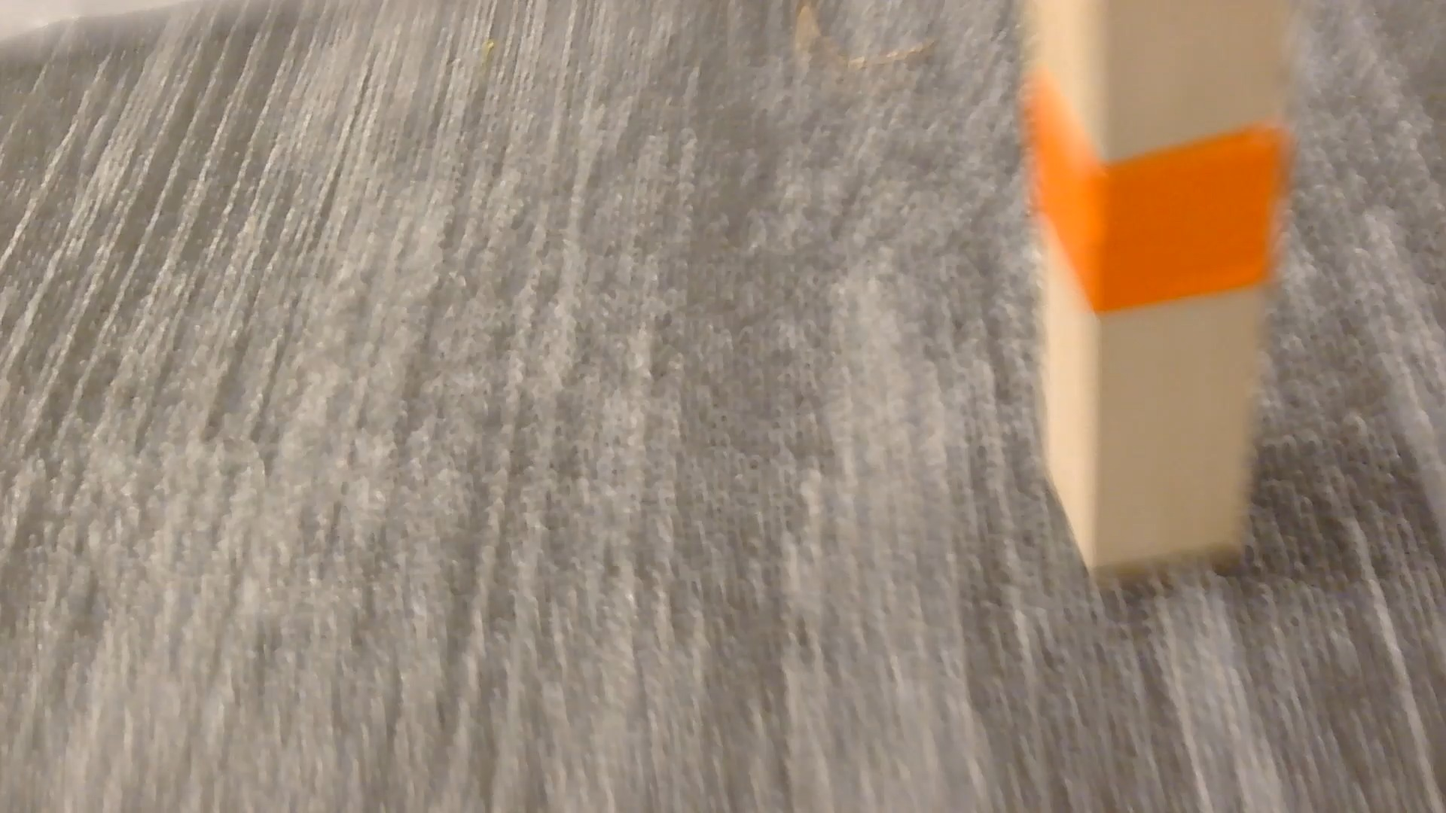Wooden Block: (1021, 0, 1291, 571)
